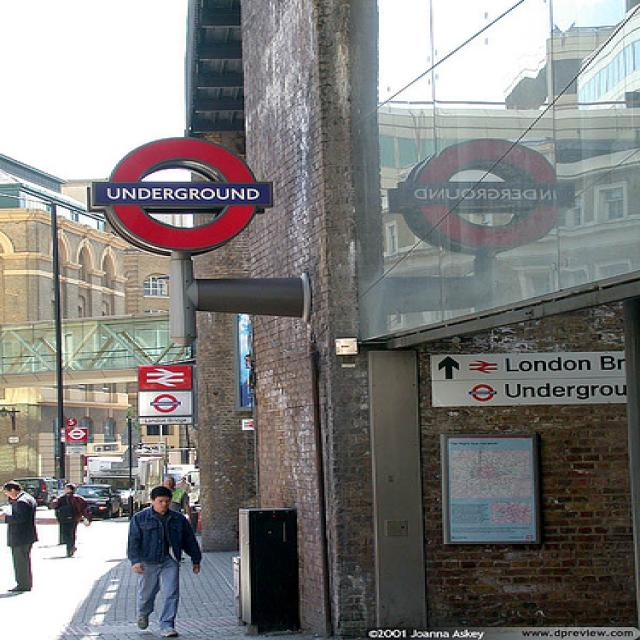light_vehicle: (58, 482, 125, 518), (8, 477, 72, 511)
